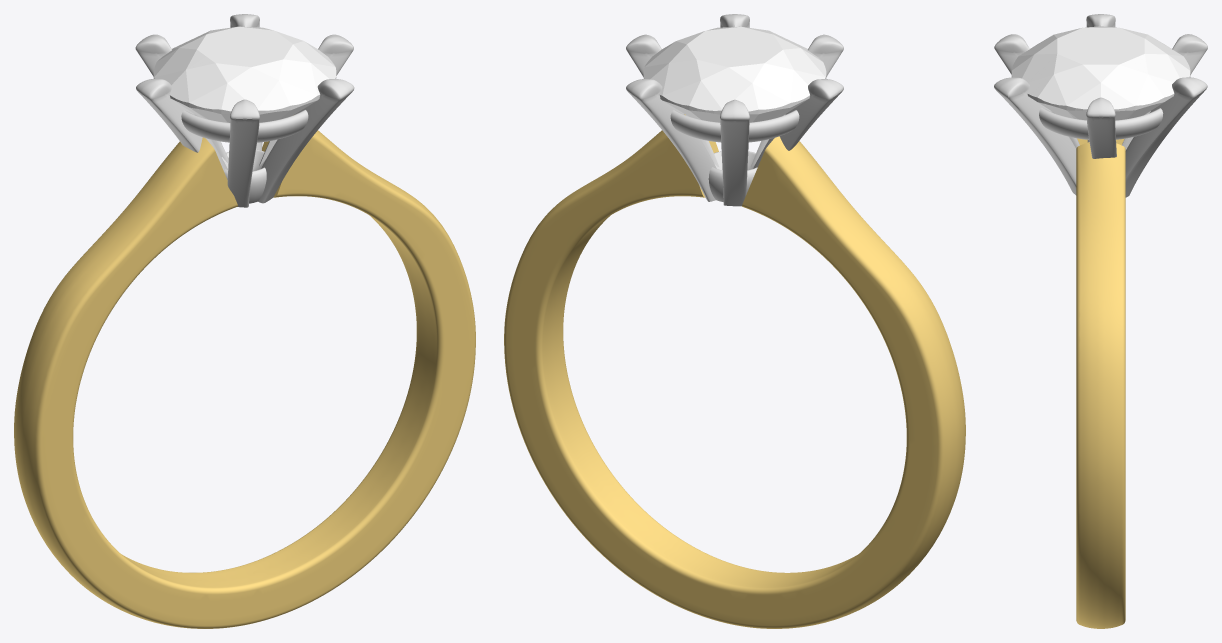
The model's file is kyleKcathedral_webgi.glb.
3 renders of one model, left to right at view 1: azimuth 30°, elevation 25°; view 2: azimuth 150°, elevation 25°; view 3: azimuth 270°, elevation 25°, orthographic. The views are drawn at different scales.
Parts seen in each view (by area): view 1: Kyle_YG_band_for_3d_model, Kyle_dia_for_3d_model, Kyle_Pt_head_LOWER_for_3d_model; view 2: Kyle_YG_band_for_3d_model, Kyle_dia_for_3d_model, Kyle_Pt_head_LOWER_for_3d_model; view 3: Kyle_YG_band_for_3d_model, Kyle_dia_for_3d_model, Kyle_Pt_head_LOWER_for_3d_model.
Part boxes in pixels (x1,y1,x2,y2): Kyle_YG_band_for_3d_model: (14, 115, 475, 628); Kyle_dia_for_3d_model: (153, 26, 336, 122); Kyle_Pt_head_LOWER_for_3d_model: (135, 14, 354, 207); Kyle_YG_band_for_3d_model: (504, 114, 965, 628); Kyle_dia_for_3d_model: (643, 26, 826, 122); Kyle_Pt_head_LOWER_for_3d_model: (626, 14, 843, 206); Kyle_YG_band_for_3d_model: (1076, 138, 1125, 628); Kyle_dia_for_3d_model: (1011, 26, 1190, 120); Kyle_Pt_head_LOWER_for_3d_model: (994, 14, 1207, 197).
Bounding box in the file's own units: 2.45 × 2.99 × 1.04.
